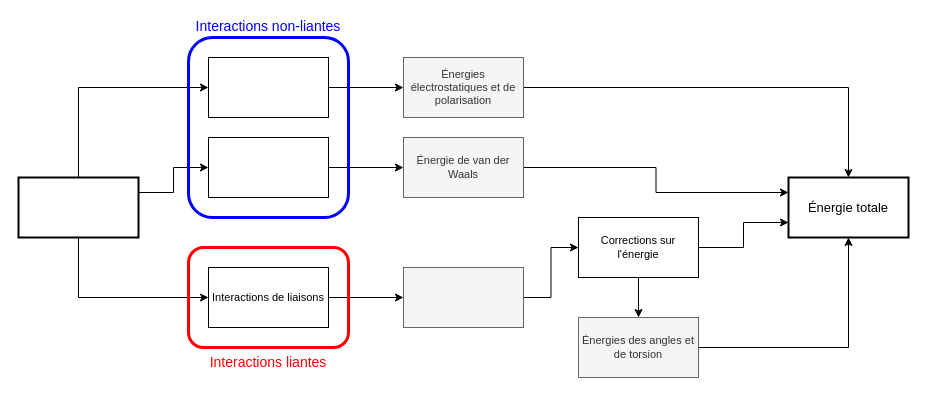
Image size: 926x395. Some labels were removed from this diagram. Each missing label, with the centre of its shape:
"Interactions coulombiques" goes at (x=268, y=87).
"Interactions de van der Waals" goes at (x=268, y=167).
"Positions atomiques" goes at (x=78, y=207).
"Énergie de liaison" goes at (x=463, y=297).
